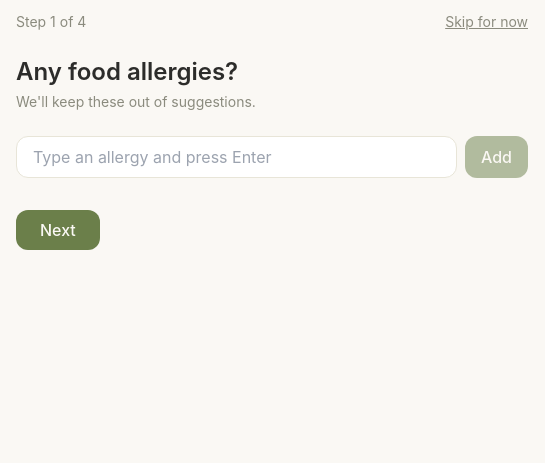
Test: Welcome page › Back button returns to the previous step
Click the button "Next" at (58, 230), box [16,210,100,250]
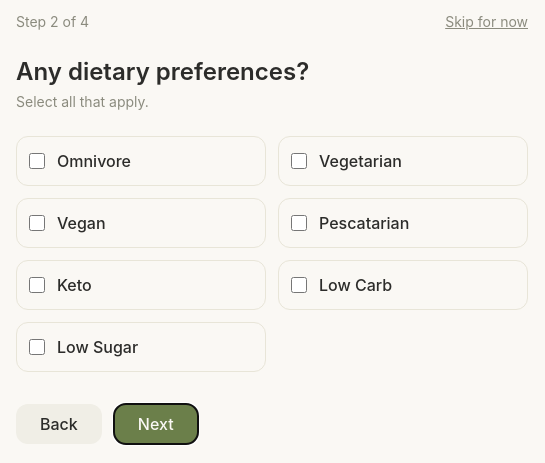
Now the element with test id "welcome-step-2" is shown
Click the button "Back" at (59, 424), box [16,404,102,444]
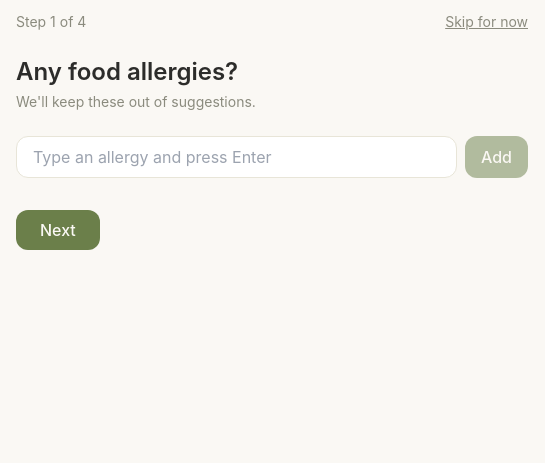
Now the element with test id "welcome-step-1" is shown, box [16,56,528,178]
